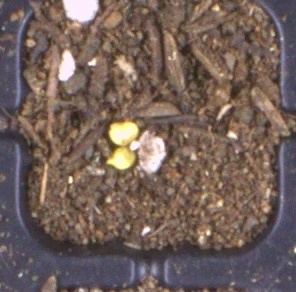chilli seed: (107, 120, 139, 146), (105, 145, 137, 171)
